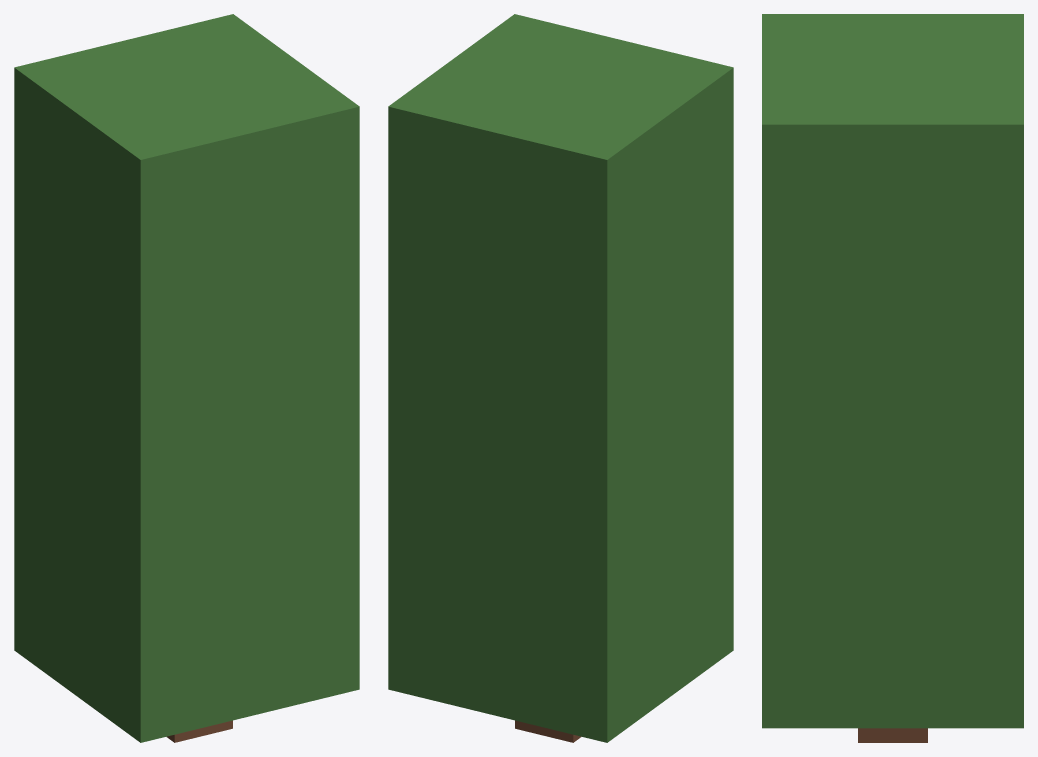
File: Tree.fbx
3 renders of one model, left to right at view 1: azimuth 30°, elevation 25°; view 2: azimuth 150°, elevation 25°; view 3: azimuth 270°, elevation 25°, orthographic. The views are drawn at different scales.
Visible parts, largest first — view 1: Tree; view 2: Tree; view 3: Tree.
Boxes of the visible parts, left/top/right/bottom form: Tree: left=14, top=14, right=359, bottom=742; Tree: left=388, top=14, right=733, bottom=742; Tree: left=762, top=14, right=1023, bottom=742.
Size of the model in its own units: 2.25 by 6.25 by 2.25.
